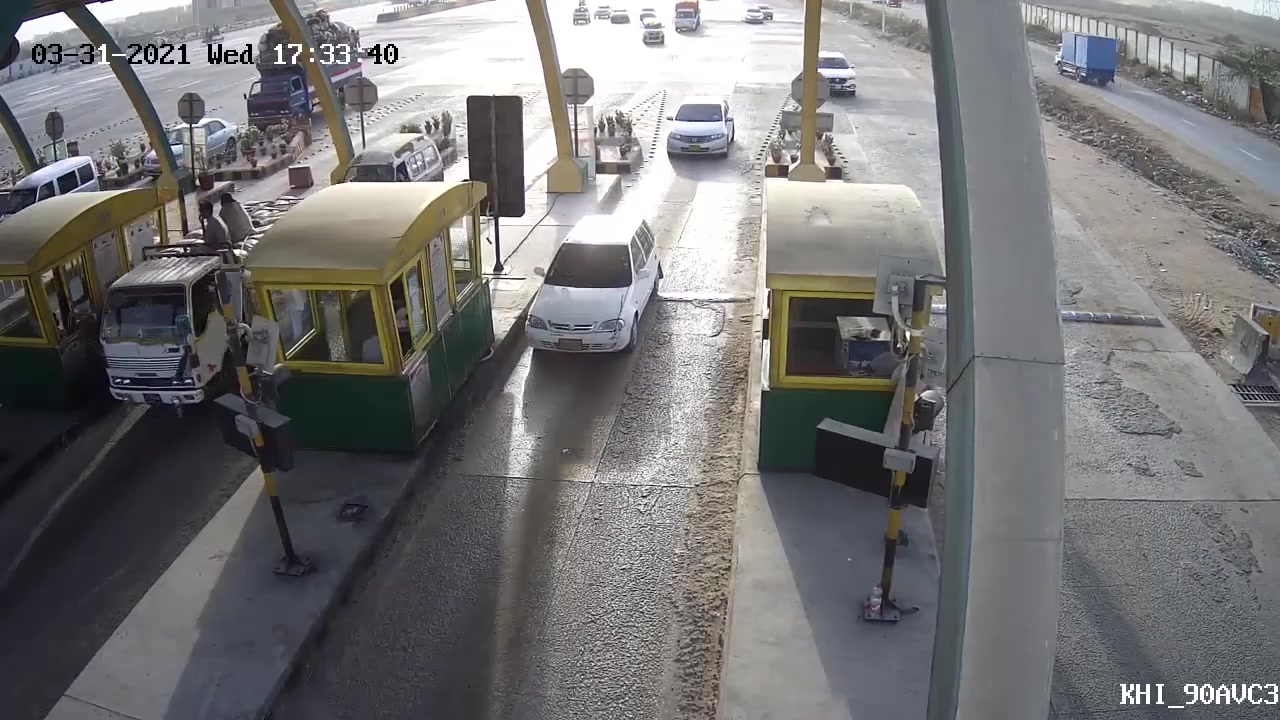F1: (513, 209, 677, 396)
